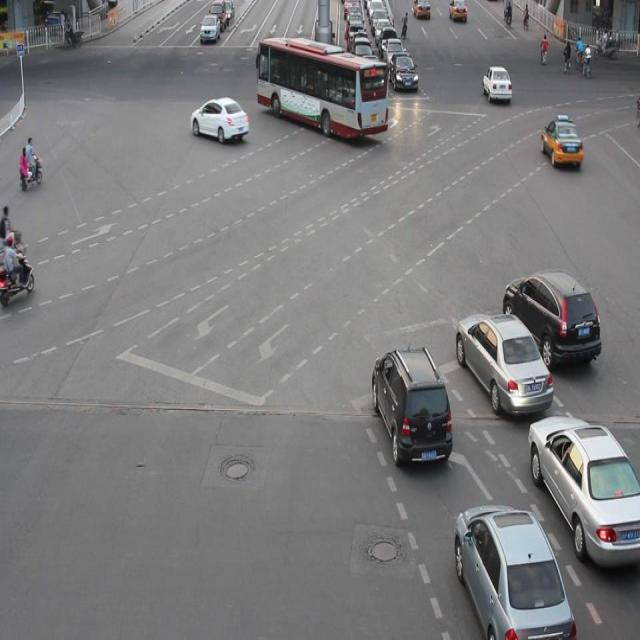car: (526, 415, 640, 565), (454, 501, 573, 640), (455, 308, 552, 416), (502, 268, 600, 367), (372, 346, 451, 465), (188, 98, 248, 143), (539, 118, 582, 168)
van: (258, 38, 387, 136)
